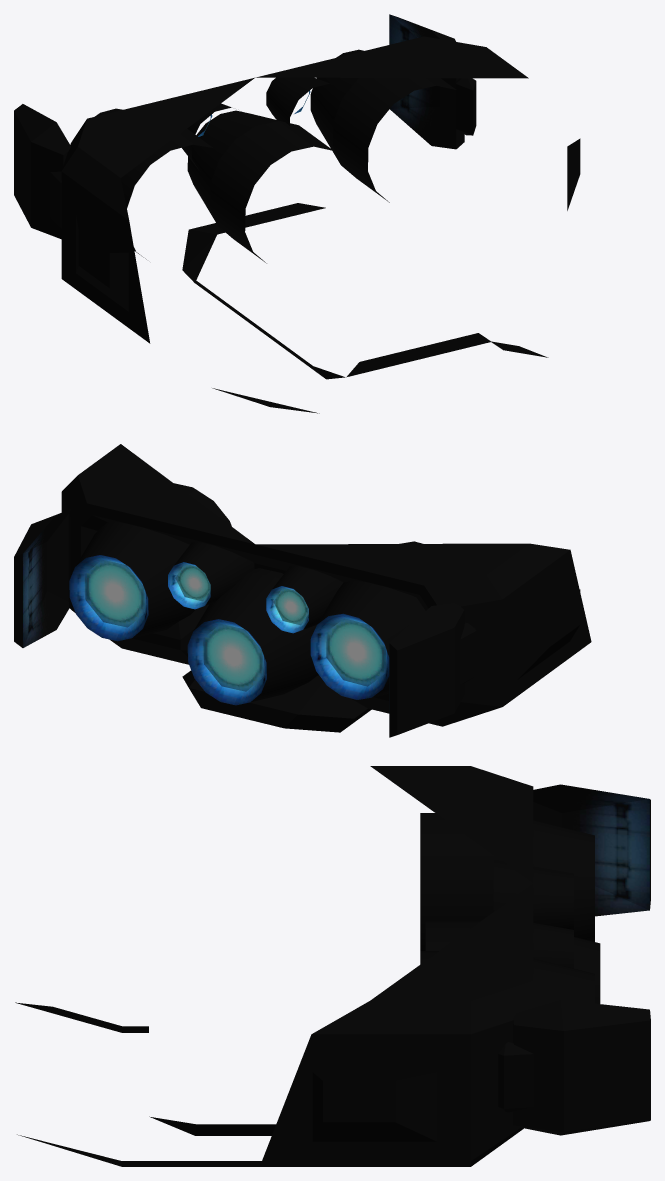
File: engine_hgn_explorer_03_ion_03_t1.glb
The picture shows the model from 3 angles, top to bottom: view 1: azimuth 30°, elevation 25°; view 2: azimuth 150°, elevation 25°; view 3: azimuth 270°, elevation 25°; orthographic projection. The views are drawn at different scales.
Parts seen in each view (by area): view 1: hgn_fs_explorer_03_engine_l; view 2: hgn_fs_explorer_03_engine_l; view 3: hgn_fs_explorer_03_engine_l.
Part boxes in pixels (left/top/right/bottom): hgn_fs_explorer_03_engine_l: left=14, top=14, right=580, bottom=413; hgn_fs_explorer_03_engine_l: left=14, top=444, right=591, bottom=737; hgn_fs_explorer_03_engine_l: left=15, top=766, right=650, bottom=1166.
Bounding box in the file's own units: 2.52 × 0.9162 × 2.51.
1 material, 1 textured.
